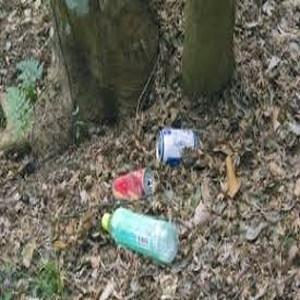Plastic: (99, 208, 180, 263)
